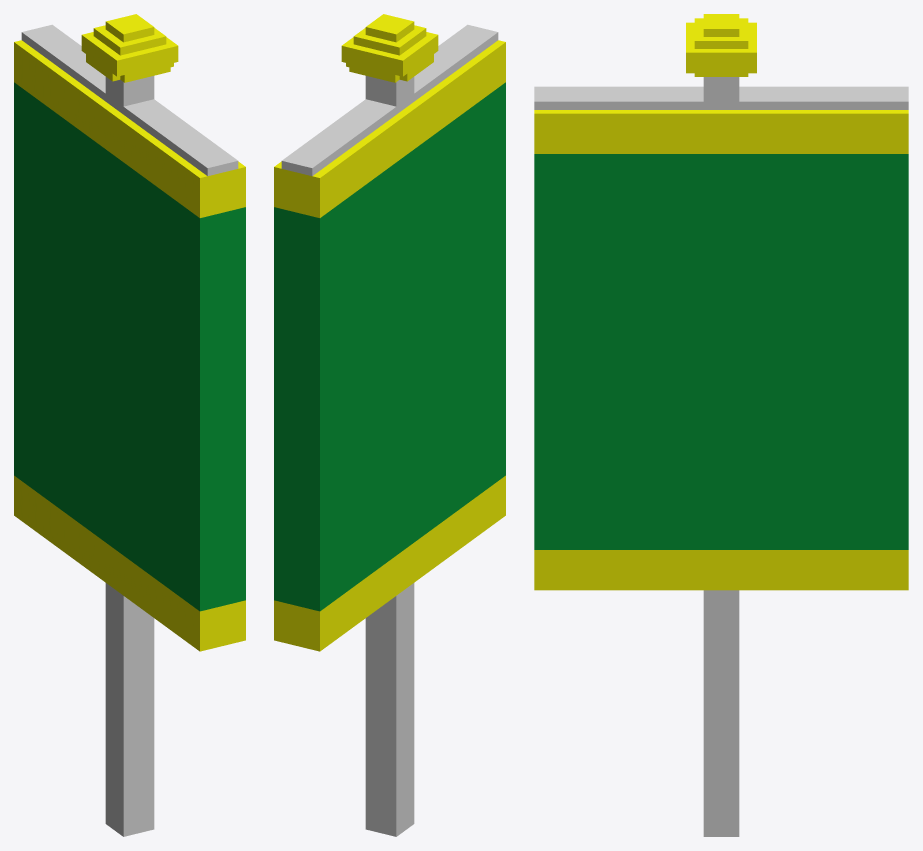
Rendered from LeaderUnit_Green.obj.
The picture shows the model from 3 angles, left to right: view 1: azimuth 30°, elevation 25°; view 2: azimuth 150°, elevation 25°; view 3: azimuth 270°, elevation 25°; orthographic projection.
Bounding box in the file's own units: 0.8 × 10 × 4.2.
1 material, 1 textured.
